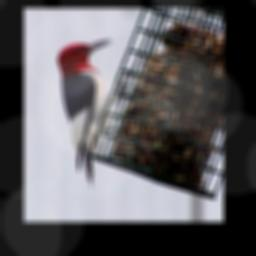Woodpecker: (55, 38, 127, 187)
